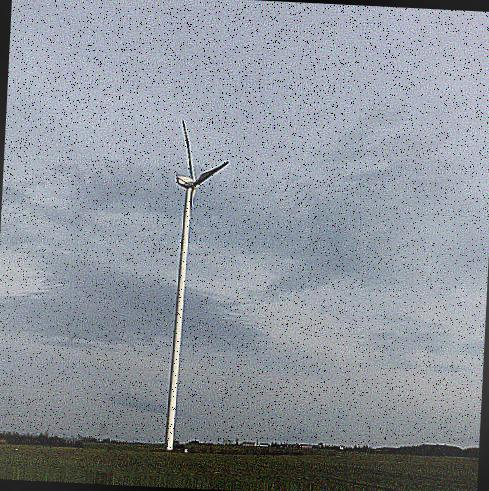wind turbine: (158, 119, 230, 447)
